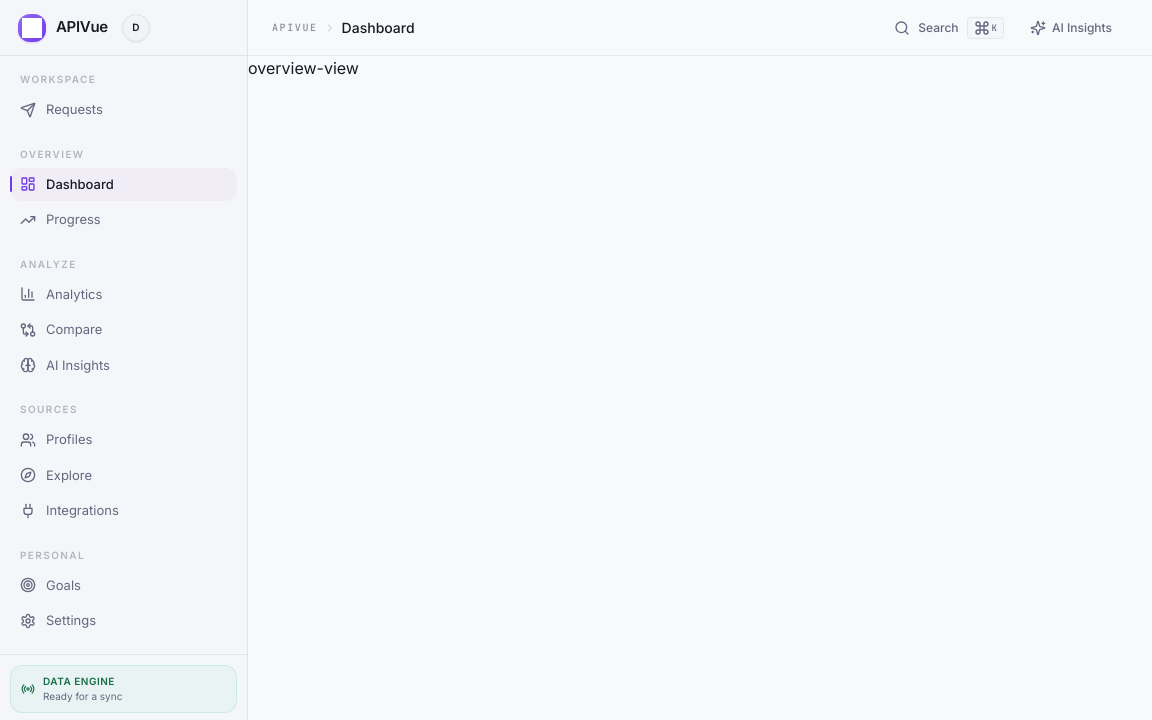
Scenario: dashboard shell interactions › opens from the header button and closes with Escape
Click the button with aria-label "search dashboard pages and actions" at point(949, 28), box top-left (884, 12), bottom-right (1014, 44)
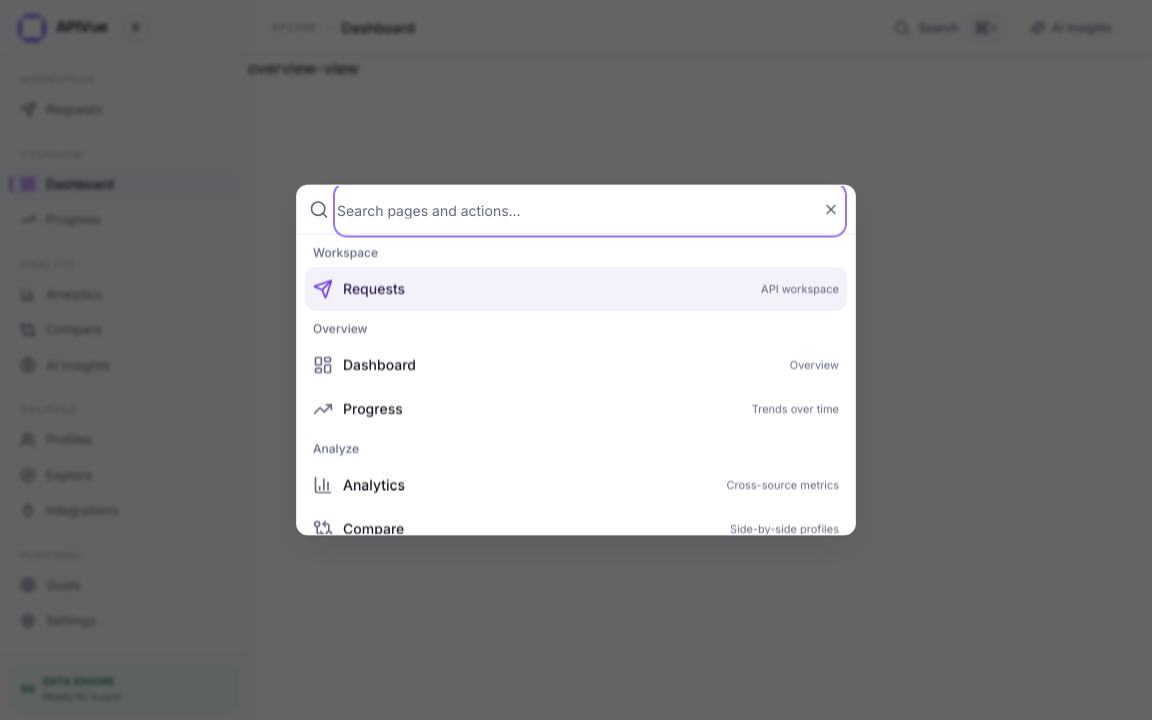
Result: the dialog is shown at top-left (296, 184), bottom-right (856, 536)
Press Escape
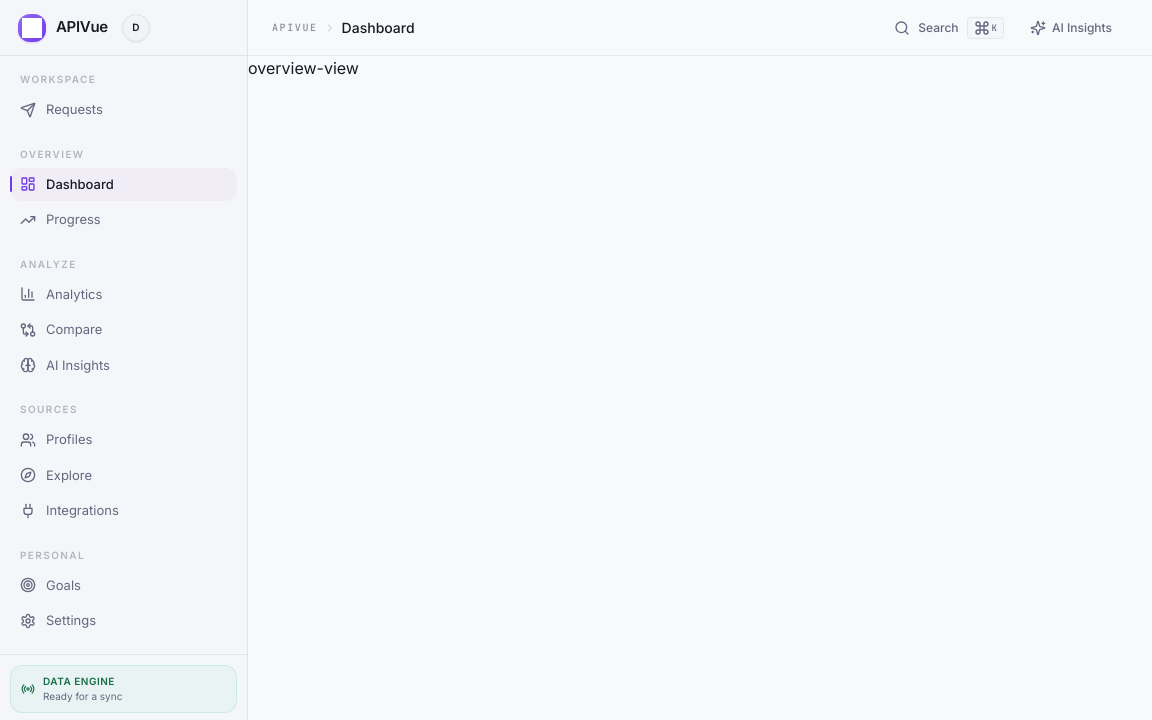
Result: the dialog is gone
